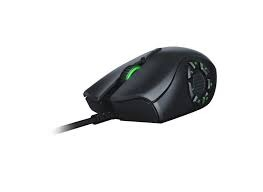mouse: (72, 31, 225, 132)
